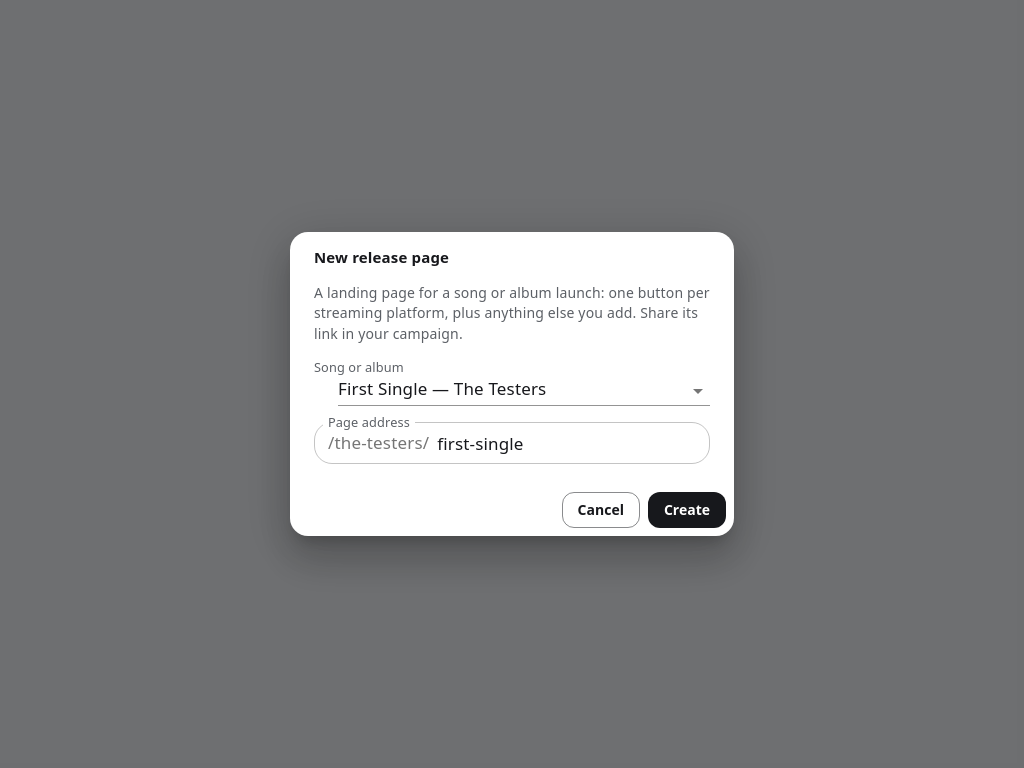
it: NewReleaseForm › updates and slugifies the address when the song or text changes
Click the dropdown named "Song or album": (442, 388) [338,377,546,400]
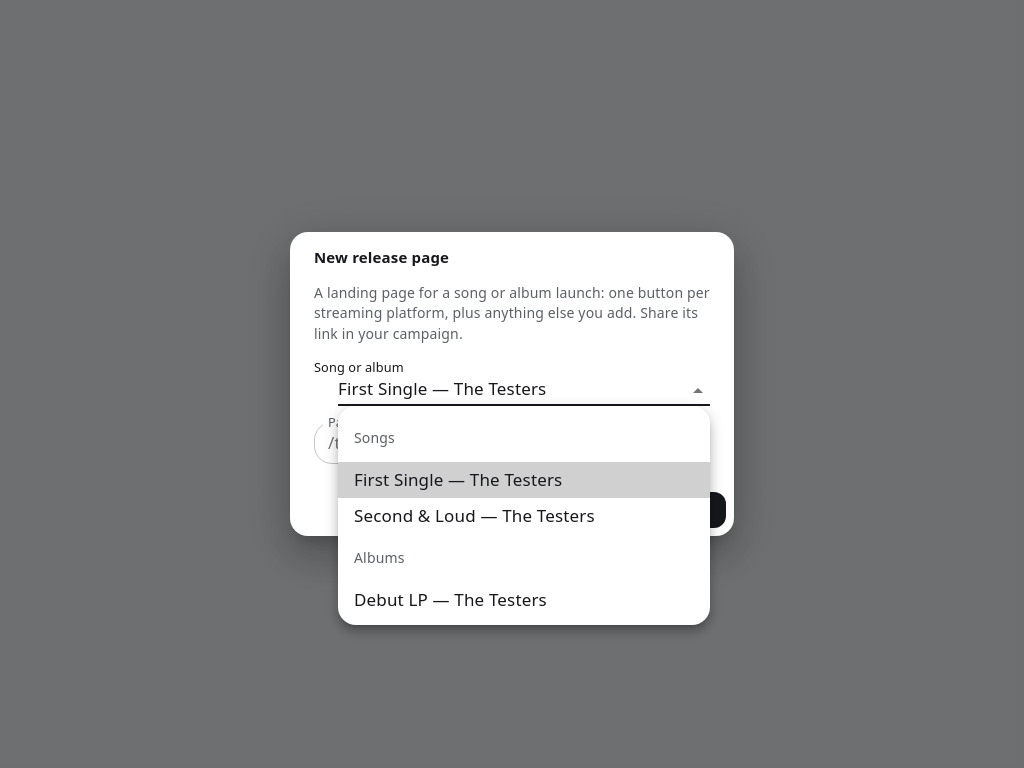
Click the option "Second & Loud — The Testers": (474, 515) [354,504,595,527]
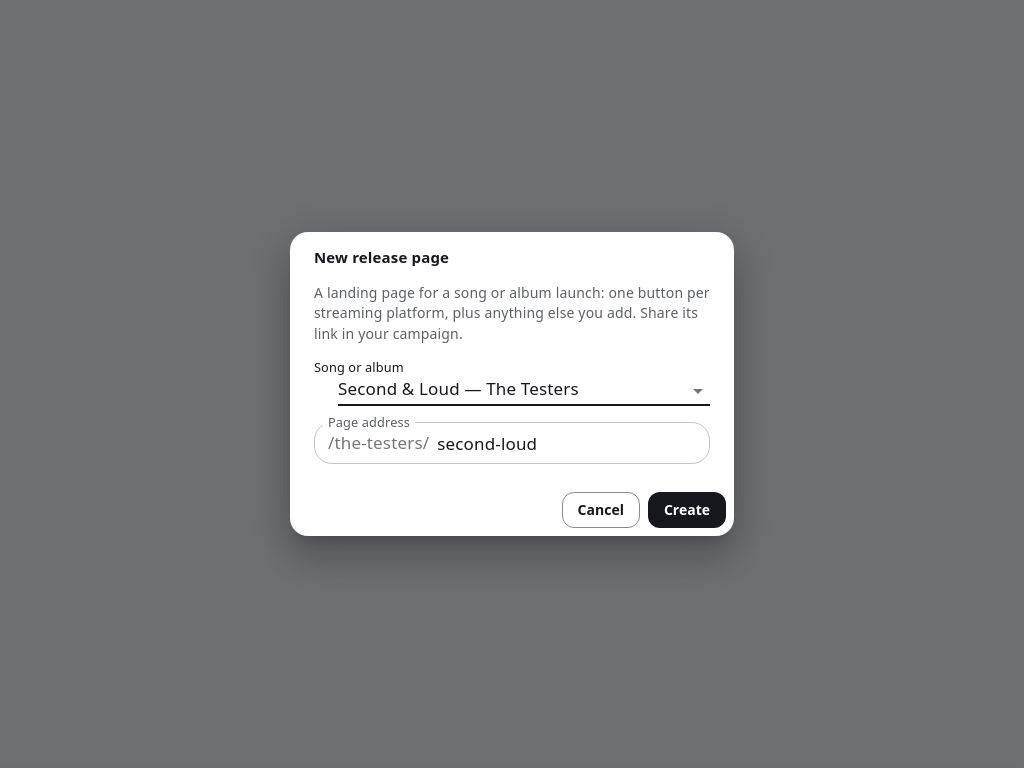
Result: the field labelled "Page address" holds "second-loud"
Replace the text in the field labelled "Page address" with "  Summer / Anthem!  ": (574, 443) [437,422,710,464]
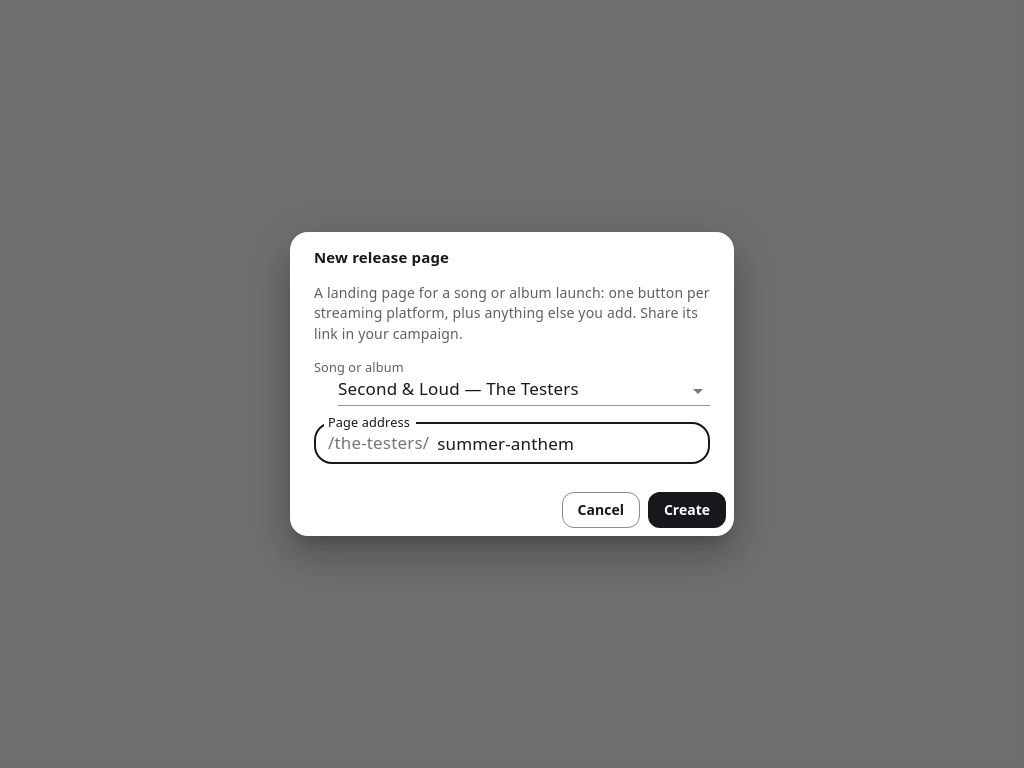
Result: the field labelled "Page address" holds "summer-anthem" at [437,422,710,464]
